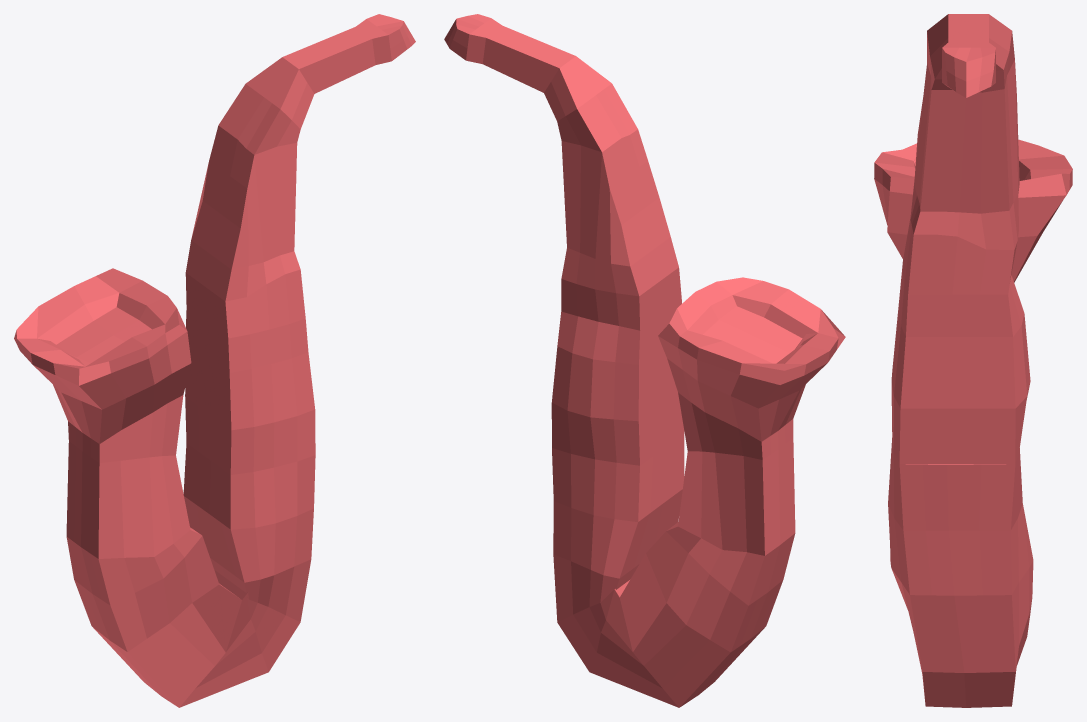
File: saxophone.gltf
3 renders of one model, left to right at view 1: azimuth 30°, elevation 25°; view 2: azimuth 150°, elevation 25°; view 3: azimuth 270°, elevation 25°, orthographic. The views are drawn at different scales.
Parts seen in each view (by area): view 1: saxophonee; view 2: saxophonee; view 3: saxophonee.
Boxes of the visible parts, x1,y1,x2,y2 form: saxophonee: (14,14,415,707); saxophonee: (444,14,845,707); saxophonee: (874,14,1072,707).
Size of the model in its own units: 4.03 by 6.17 by 1.47.
